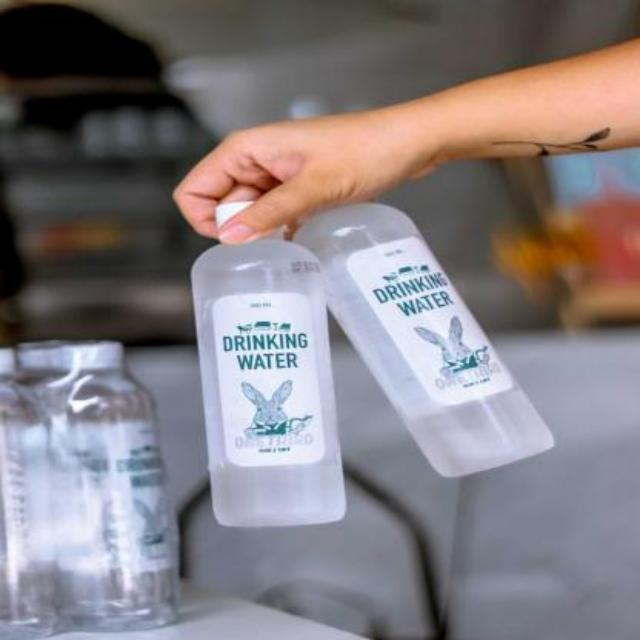plastic_bottle: (283, 184, 568, 484), (1, 335, 186, 637), (188, 201, 351, 527)
